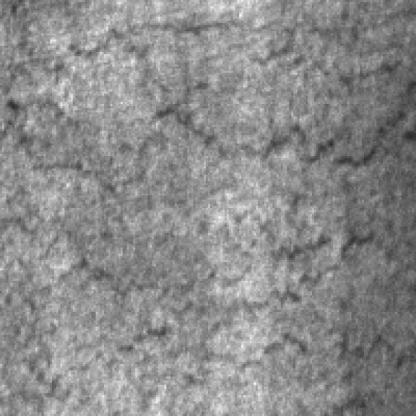crazing: (71, 0, 414, 170), (15, 231, 339, 393), (0, 18, 222, 249), (248, 224, 406, 410)
